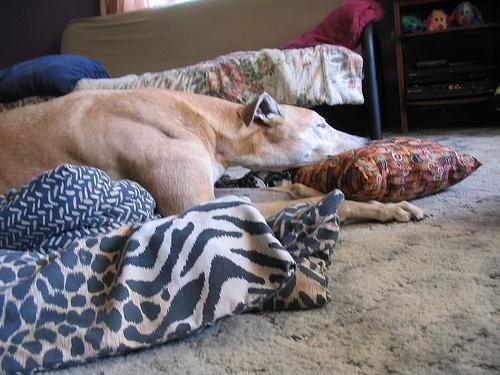dog: (1, 88, 428, 225)
